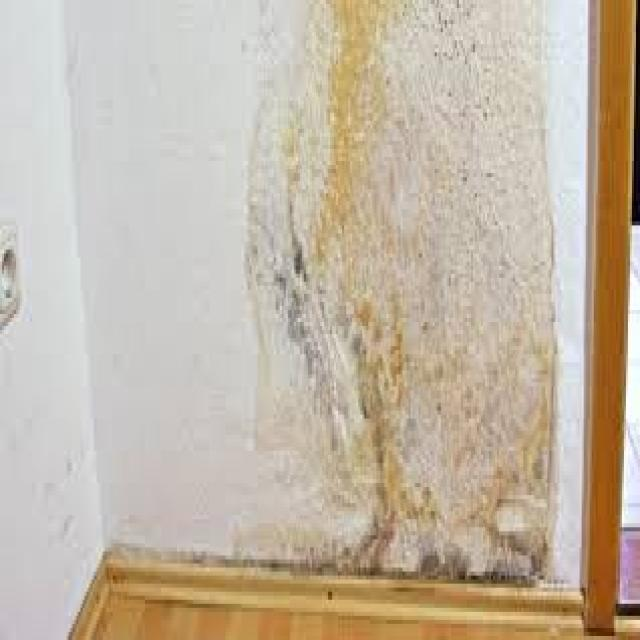stain_mould: (103, 4, 563, 577)
